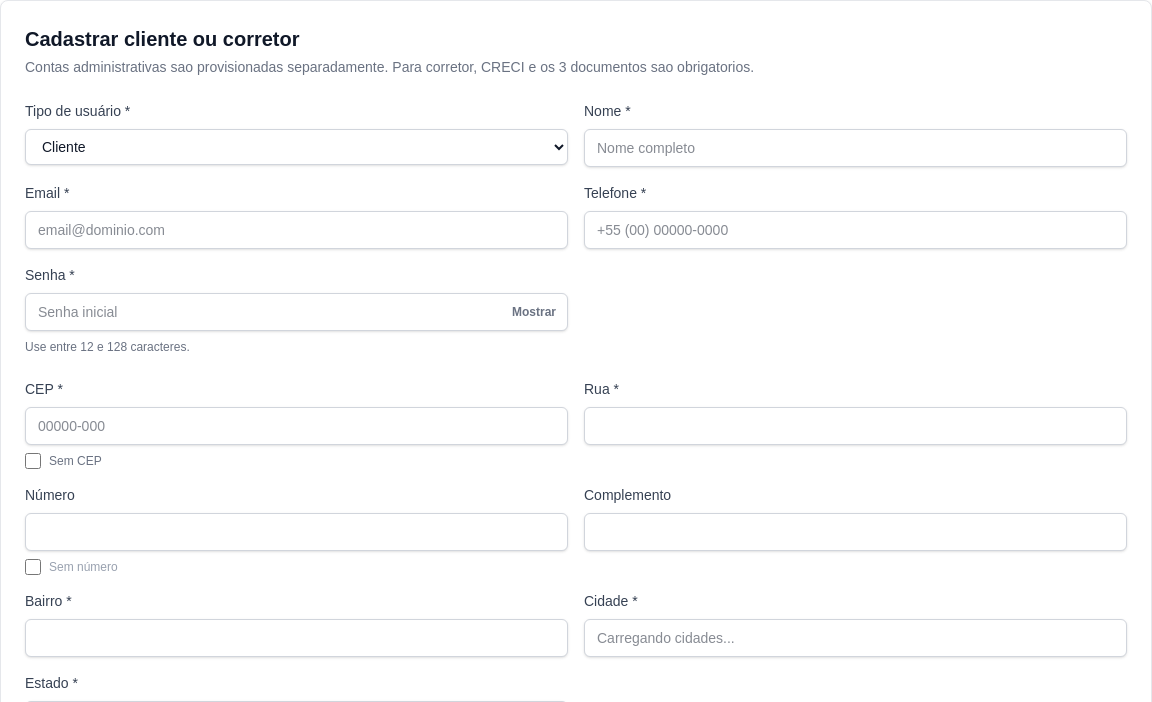
CreateUser › preenche rua, bairro, cidade e estado ao informar CEP válido
In the field labelled "CEP *": (296, 426) x1=25 y1=407 x2=568 y2=445, type "75900000"
(page scrolled)
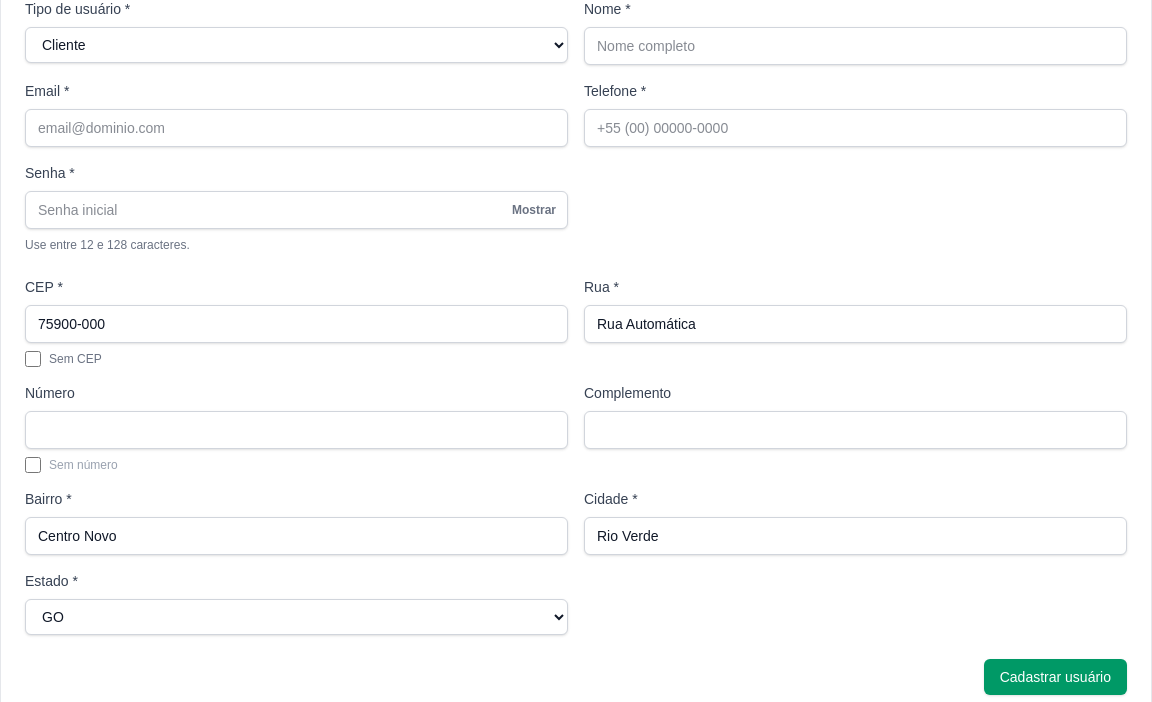
Check: the field labelled "Rua *" holds "Rua Automática", box x1=584 y1=305 x2=1127 y2=343
Check: the field labelled "Bairro *" holds "Centro Novo", box x1=25 y1=517 x2=568 y2=555
Check: the field labelled "Cidade *" holds "Rio Verde", box x1=584 y1=517 x2=1127 y2=555
